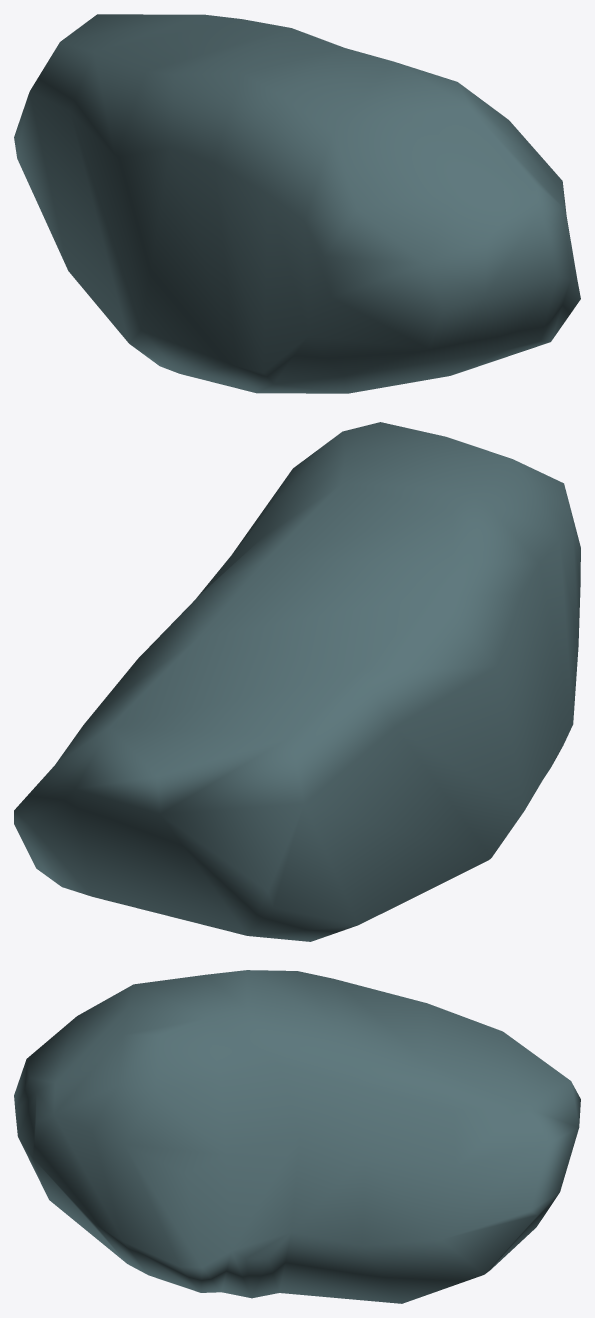
Rendered from rock_05.glb.
3 views of the same model, one above another, from view 1: azimuth 30°, elevation 25°; view 2: azimuth 150°, elevation 25°; view 3: azimuth 270°, elevation 25° (orthographic). The views are drawn at different scales.
Visible parts, largest first — view 1: rockmodel5; view 2: rockmodel5; view 3: rockmodel5.
Part boxes in pixels (x1,y1,x2,y2): rockmodel5: (14,14,580,393); rockmodel5: (14,422,580,941); rockmodel5: (14,970,580,1303).
Size of the model in its own units: 0.6426 by 0.5264 by 1.1.
